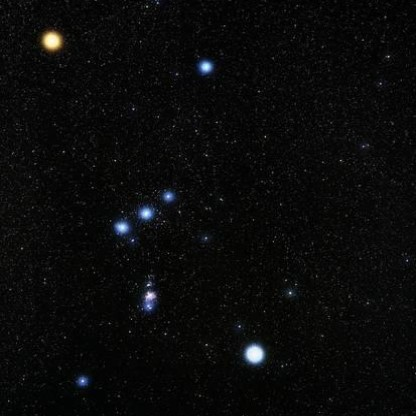Orion: (236, 329, 276, 384), (36, 22, 69, 59), (59, 370, 95, 397), (195, 49, 223, 81), (156, 184, 186, 211), (108, 216, 133, 243), (136, 201, 157, 226)
